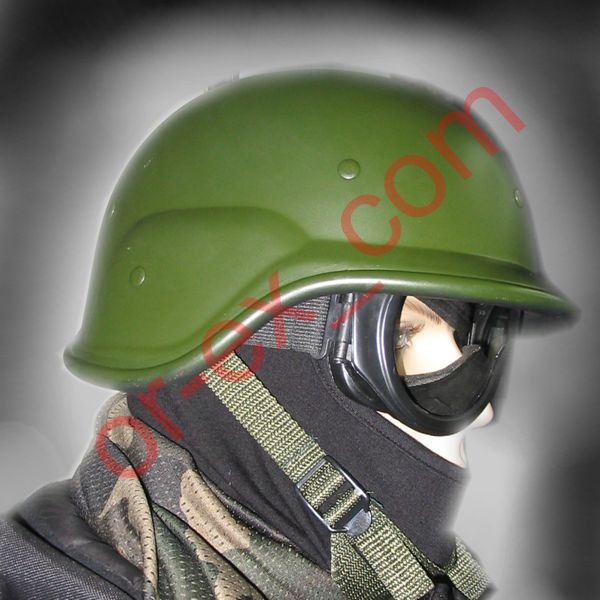helmet: (79, 78, 545, 355)
